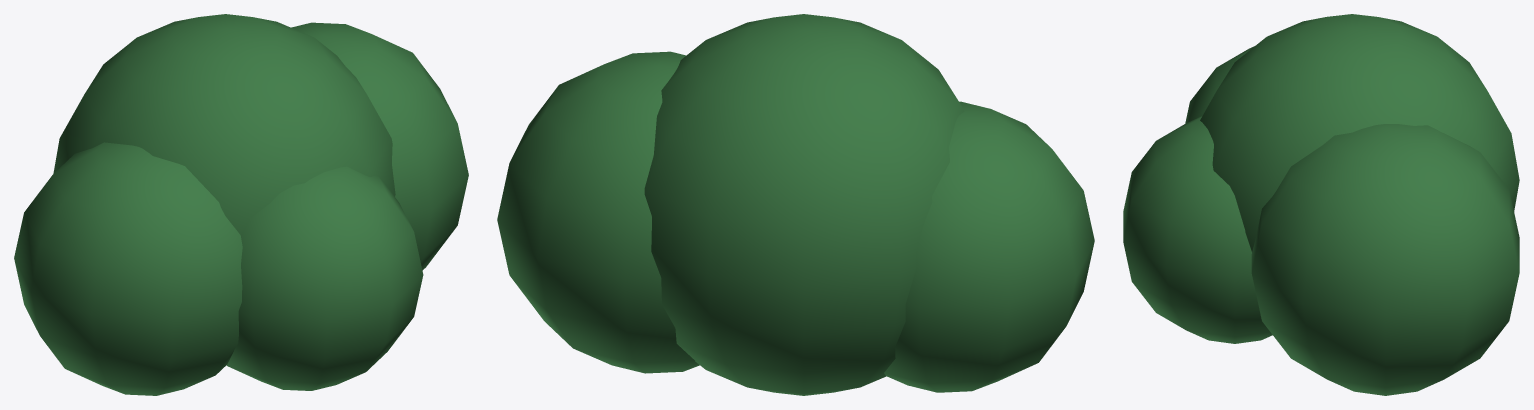
File: bush-shrub.glb
The picture shows the model from 3 angles, left to right: view 1: azimuth 30°, elevation 25°; view 2: azimuth 150°, elevation 25°; view 3: azimuth 270°, elevation 25°; orthographic projection. The views are drawn at different scales.
Size of the model in its own units: 1.53 by 1 by 1.18.
